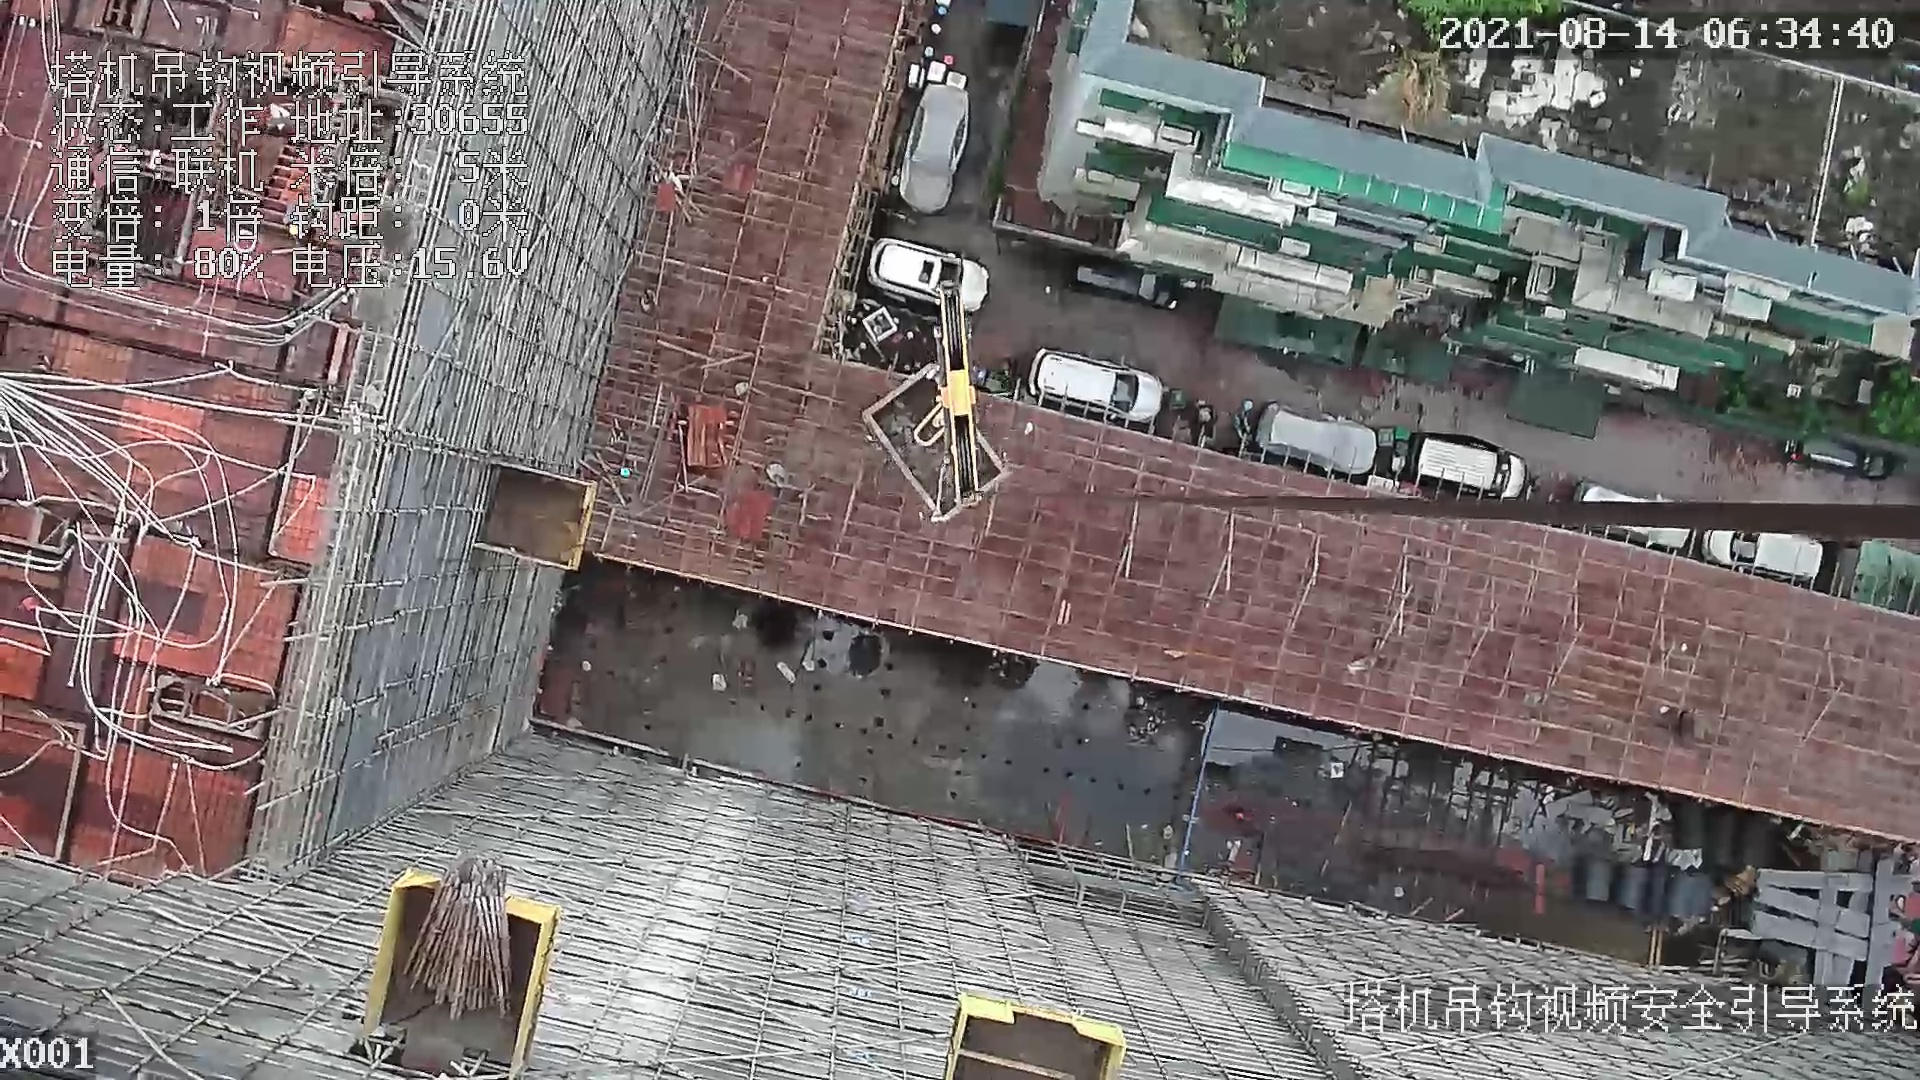hook: (906, 284, 985, 501)
hopper: (877, 372, 1010, 537)
scaffold: (415, 843, 527, 1033)
